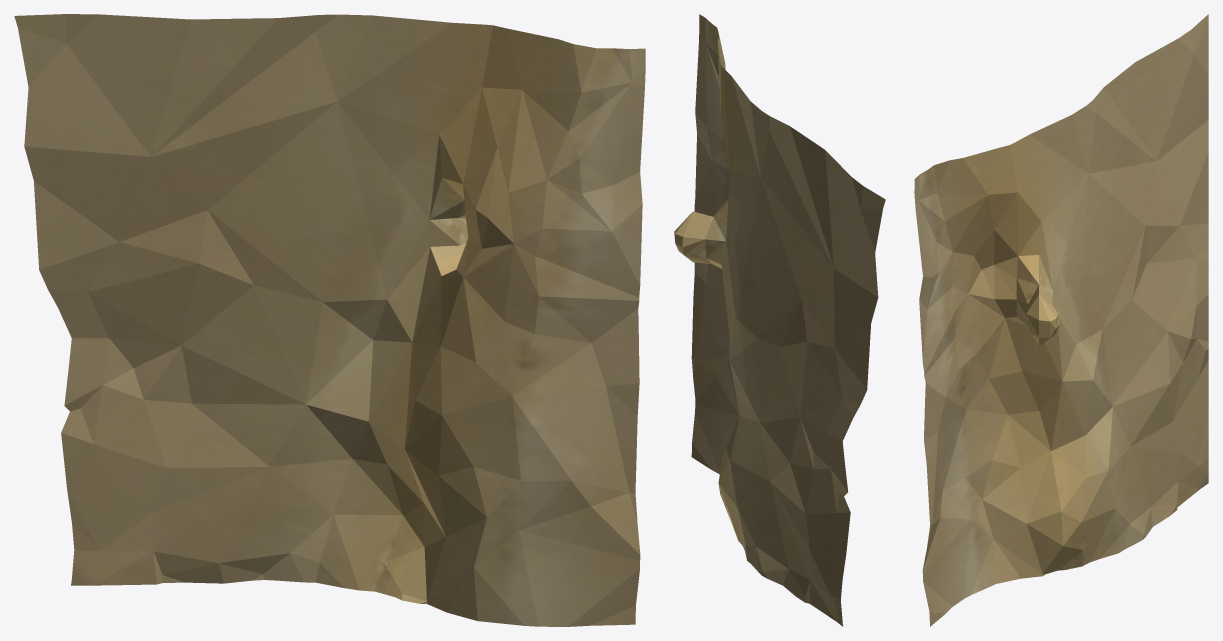
The picture shows the model from 3 angles, left to right: view 1: azimuth 30°, elevation 25°; view 2: azimuth 150°, elevation 25°; view 3: azimuth 270°, elevation 25°; orthographic projection. The views are drawn at different scales.
Size of the model in its own units: 0.6609 by 0.8374 by 0.4981.
3 materials, 3 textured.
